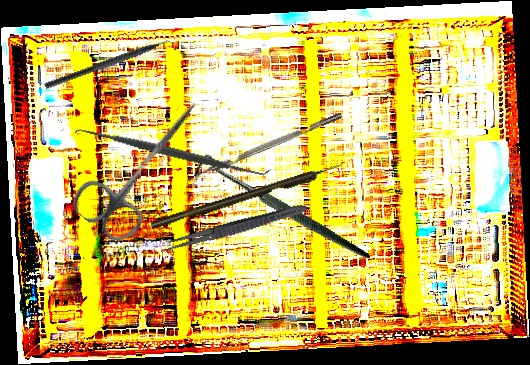Chopper: (186, 112, 346, 188), (42, 31, 185, 99)
Dressing Forceps: (159, 199, 310, 257)
Hook Surgical: (188, 109, 371, 315), (149, 161, 345, 231)
Iris Scissors: (66, 79, 221, 249)
Spatula Surgical: (73, 117, 272, 187)
